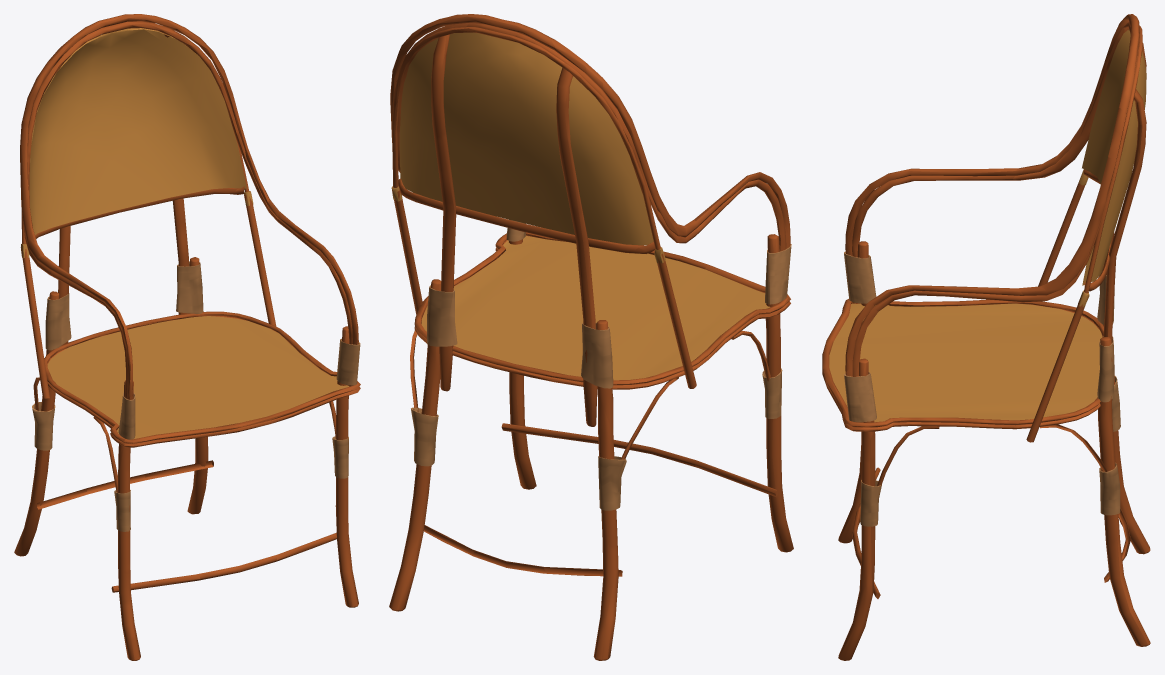
File: chair_wood.glb
3 renders of one model, left to right at view 1: azimuth 30°, elevation 25°; view 2: azimuth 150°, elevation 25°; view 3: azimuth 270°, elevation 25°, orthographic. The views are drawn at different scales.
Visible parts, largest first — view 1: chair_3; view 2: chair_3; view 3: chair_3.
Boxes of the visible parts, <box> form: chair_3: <box>14,14,360,660</box>; chair_3: <box>389,14,793,660</box>; chair_3: <box>822,14,1150,660</box>.
Size of the model in its own units: 0.4644 by 0.9633 by 0.5007.
Materials: 3 (2 with a texture image).
